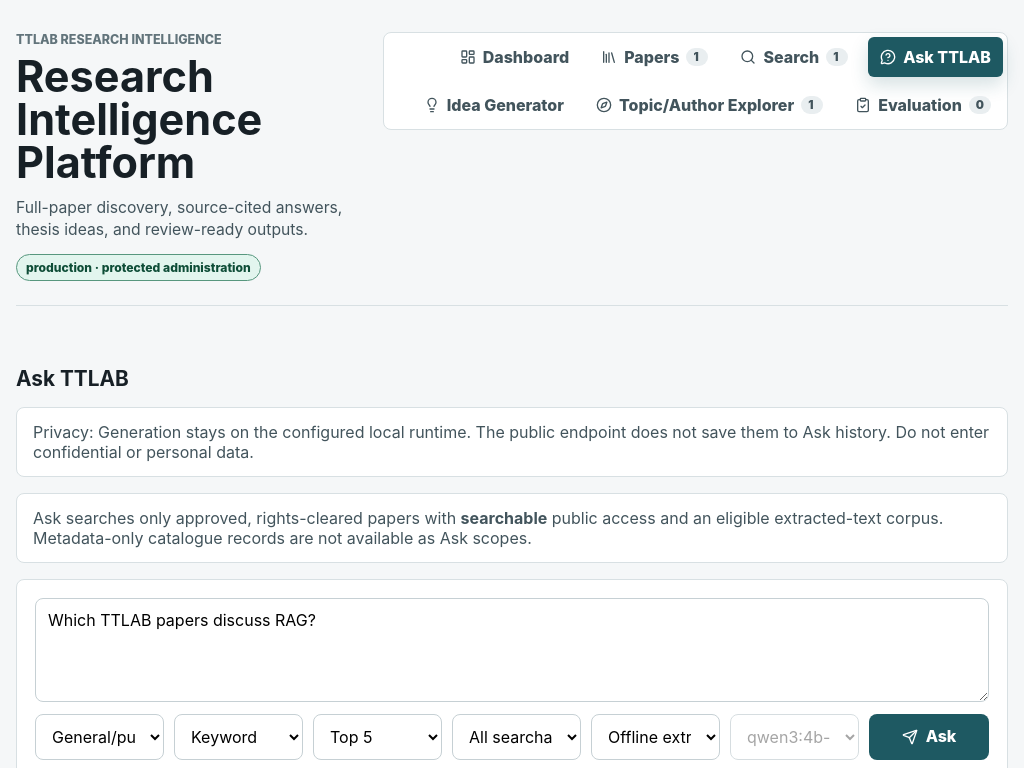
Test: automated accessibility smoke › has no detectable axe violations on a generated Ask answer
This screenshot has width=1024, height=768.
Expected: the heading "Ask TTLAB" is shown, top-left (16, 366), bottom-right (129, 391)
Replace the text in the text box named "Question" with "Which paper discusses retrieval?" at (512, 650), box top-left (35, 598), bottom-right (989, 702)
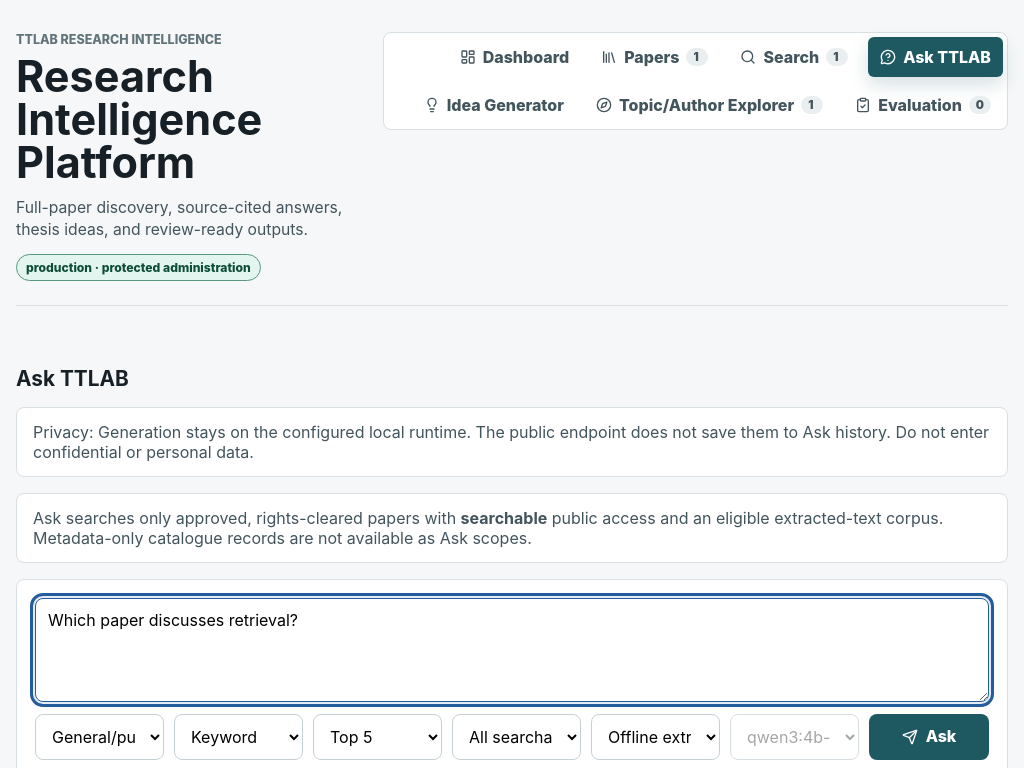
Click the button "Ask" at (929, 737), box top-left (869, 714), bottom-right (989, 760)
(page scrolled)
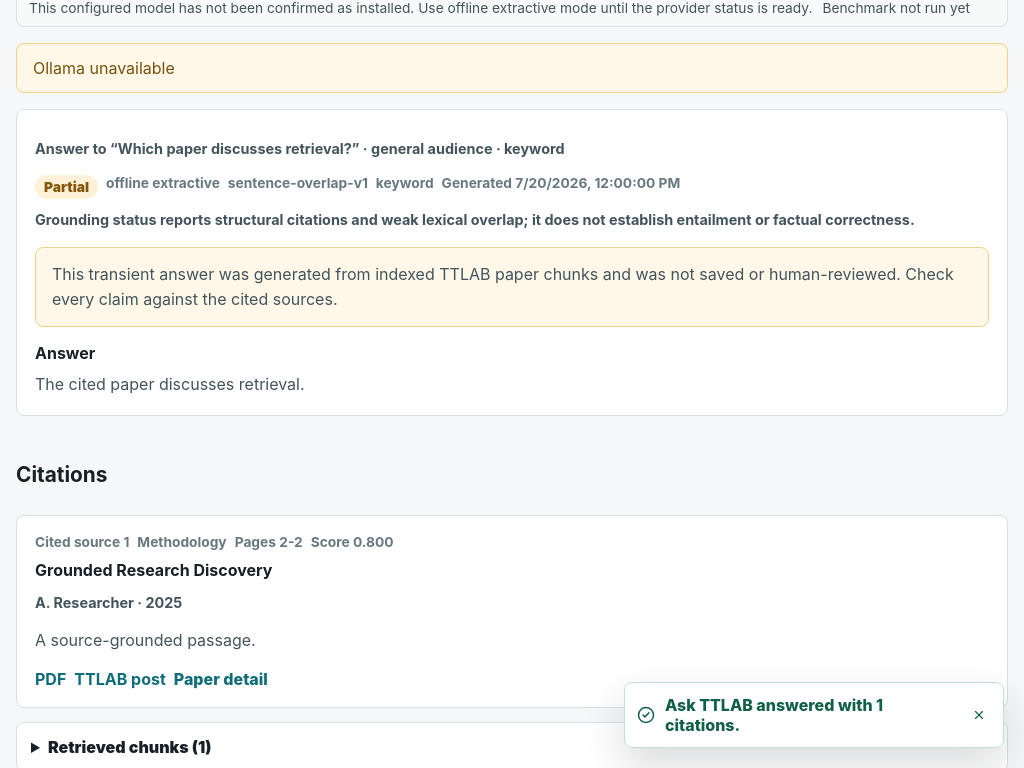
Now the text "The cited paper discusses retrieval." is shown, box top-left (35, 374), bottom-right (305, 394)
